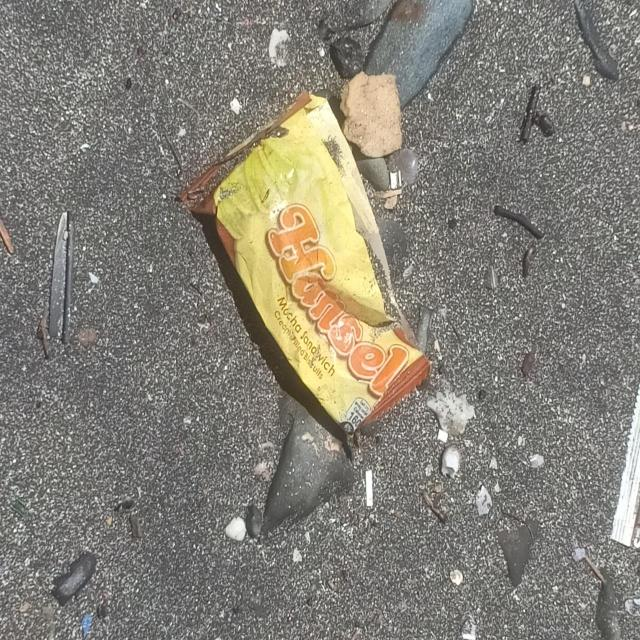litter: (176, 90, 432, 448)
